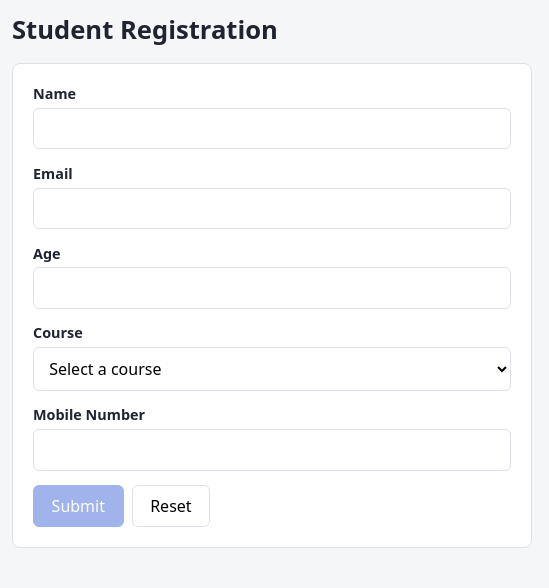
Student Registration form › keeps Submit disabled while invalid and shows a field message after leaving it
Check: the button "Submit" is disabled, box [33,485,124,526]
Type "12345" into the field labelled "Mobile Number".
click(272, 450); type("12345")  # box [33,429,511,470]
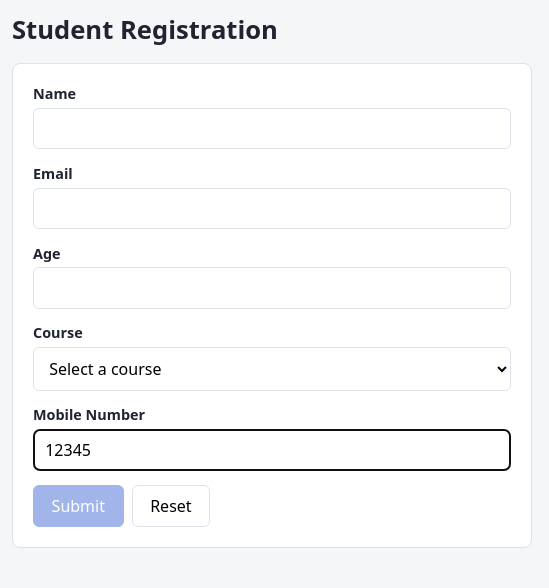
Press Tab
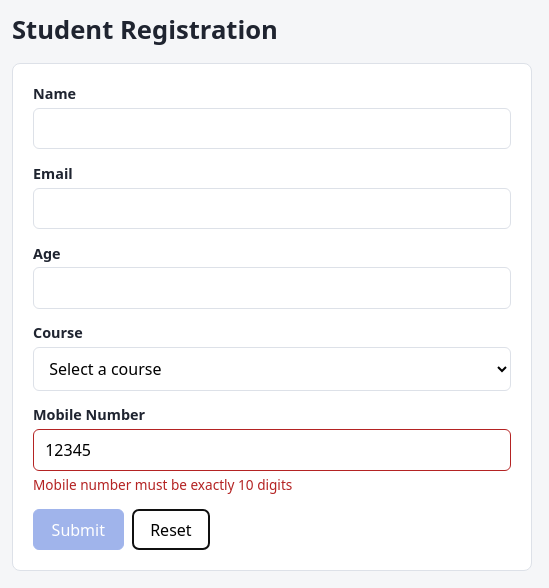
Check: the text "Mobile number must be exactly 10 digits" is shown, box [33,475,292,494]
